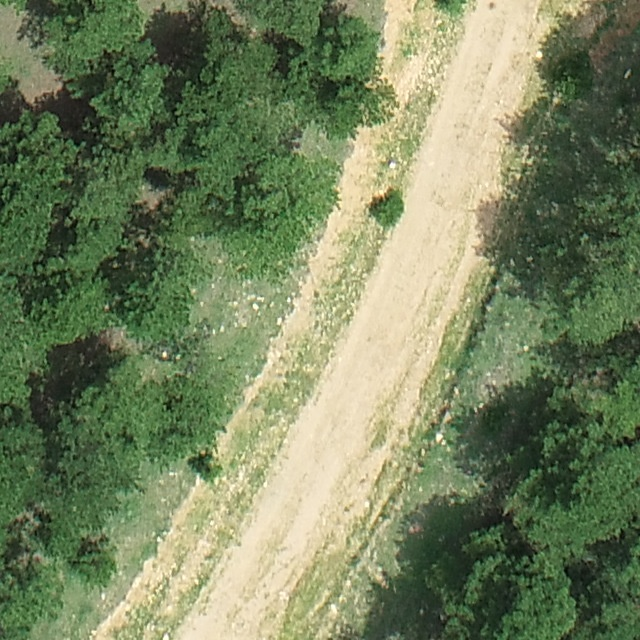unhealthy: (99, 325, 140, 354)
